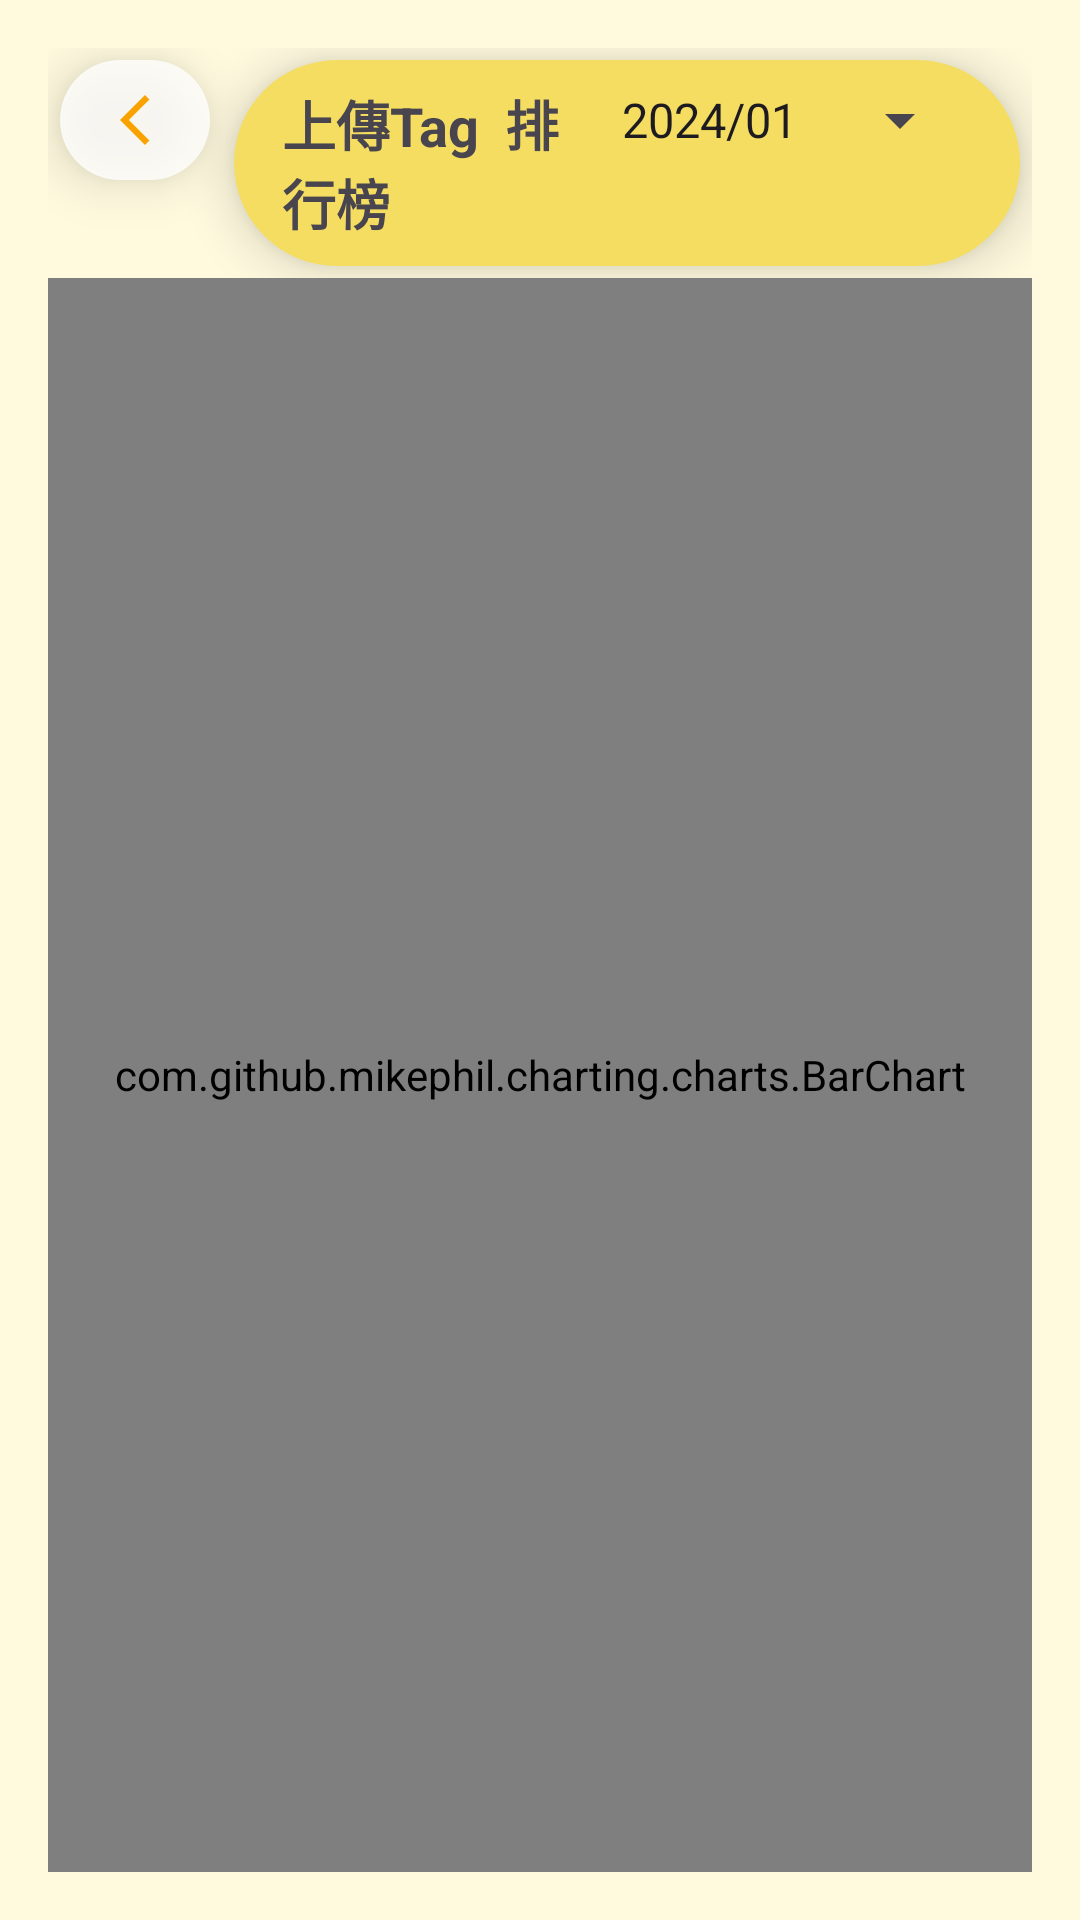

Named icons in this screenshot (1080*1920) and their centers, (x=x, y=y):
back: (x=135, y=120)
